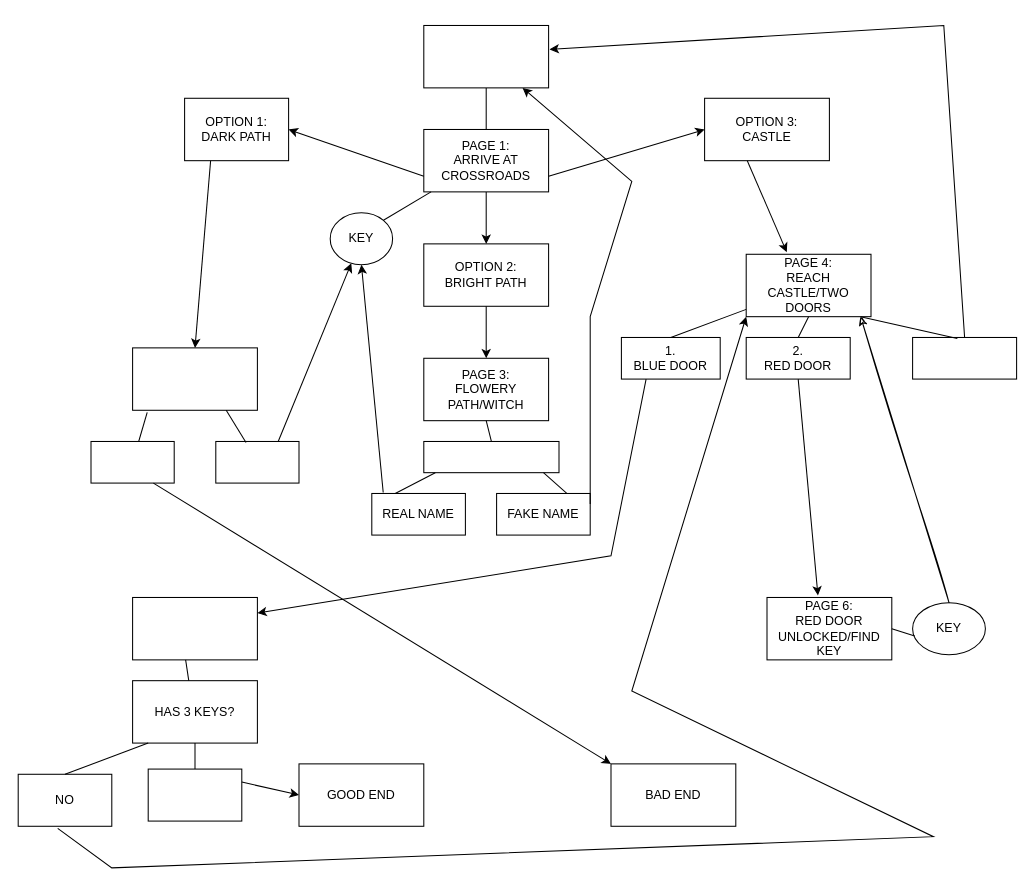
Some shapes in this 1035 by 894 pixel diagram are drawn without their labels. Here are the shapes that lost their labels. From the top down, the centre of each, then its label:
At point 486,56: "PAGE 0: WAKE UP".
At point 964,357: "3. RETURN TO CROSSROADS".
At point 194,378: "PAGE 2: TRAVEL ON DARK PATH / MONSTER".
At point 132,461: "1: RUN".
At point 257,461: "2: FIGHT".
At point 491,456: "WHAT IS YOUR NAME?".
At point 194,628: "PAGE 5: LOCKED BLUE DOOR".
At point 194,794: "YES".
